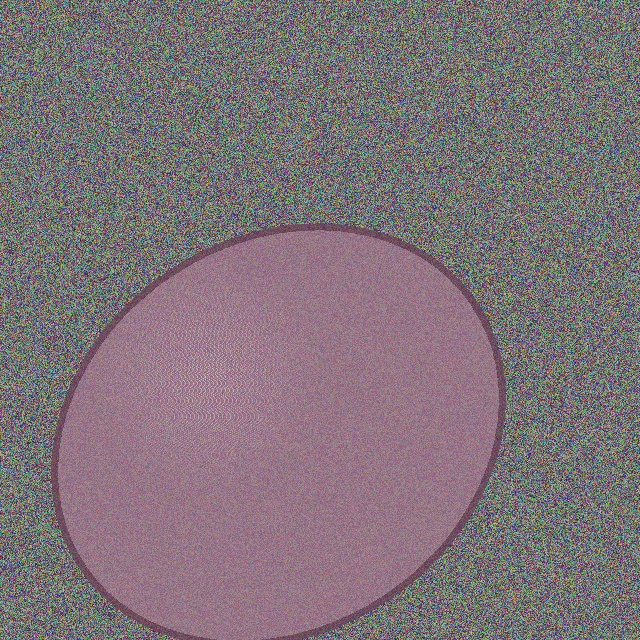lens: (54, 227, 502, 640)
